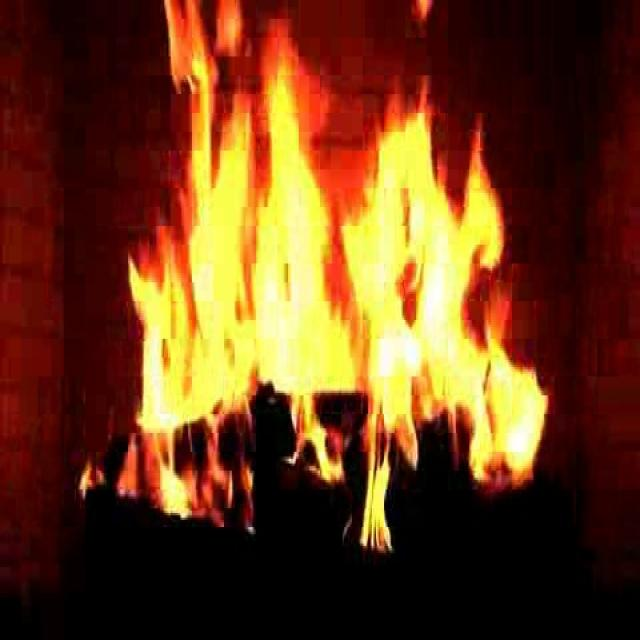fire: (122, 30, 549, 515)
